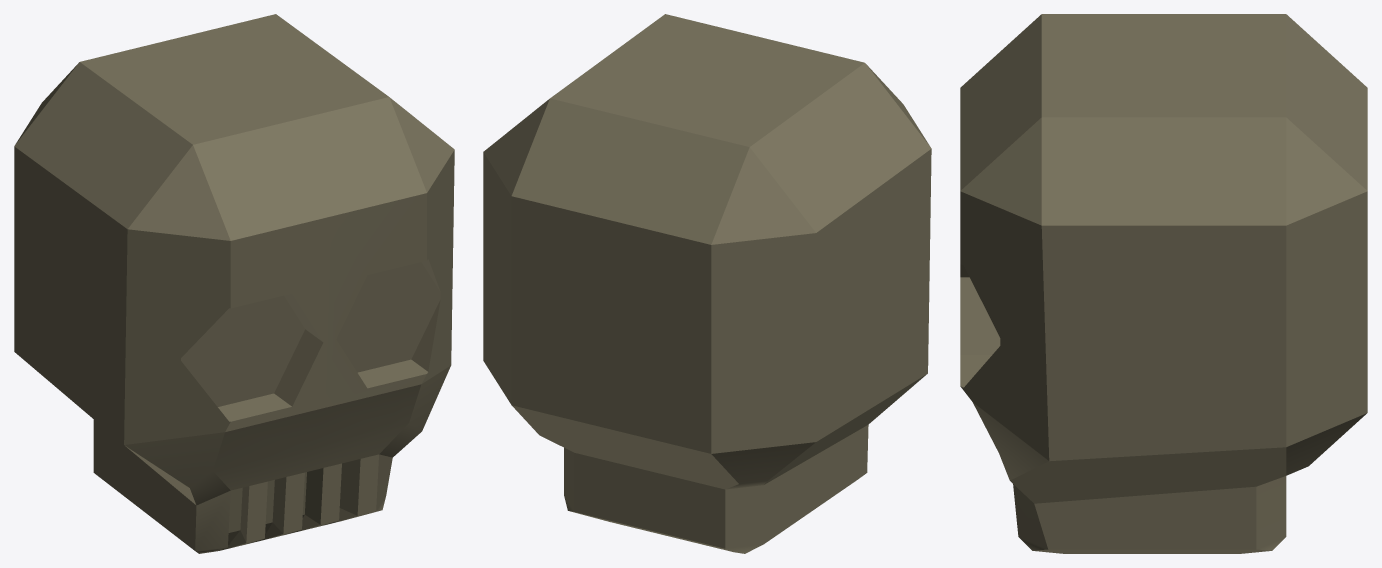
File: Enemy_BaseTextured.fbx
3 renders of one model, left to right at view 1: azimuth 30°, elevation 25°; view 2: azimuth 150°, elevation 25°; view 3: azimuth 270°, elevation 25°, orthographic. The views are drawn at different scales.
Parts seen in each view (by area): view 1: polySurface1; view 2: polySurface1; view 3: polySurface1.
Part boxes in pixels (bbox=[...]): polySurface1: bbox=[14, 14, 454, 553]; polySurface1: bbox=[483, 14, 931, 553]; polySurface1: bbox=[960, 14, 1367, 553].
Size of the model in its own units: 1 by 1.24 by 1.
